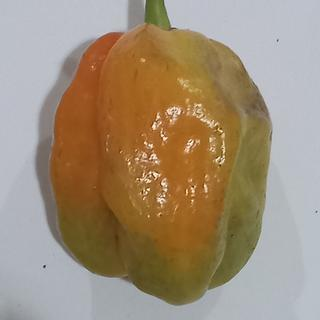Grade-A: (38, 23, 282, 309)
